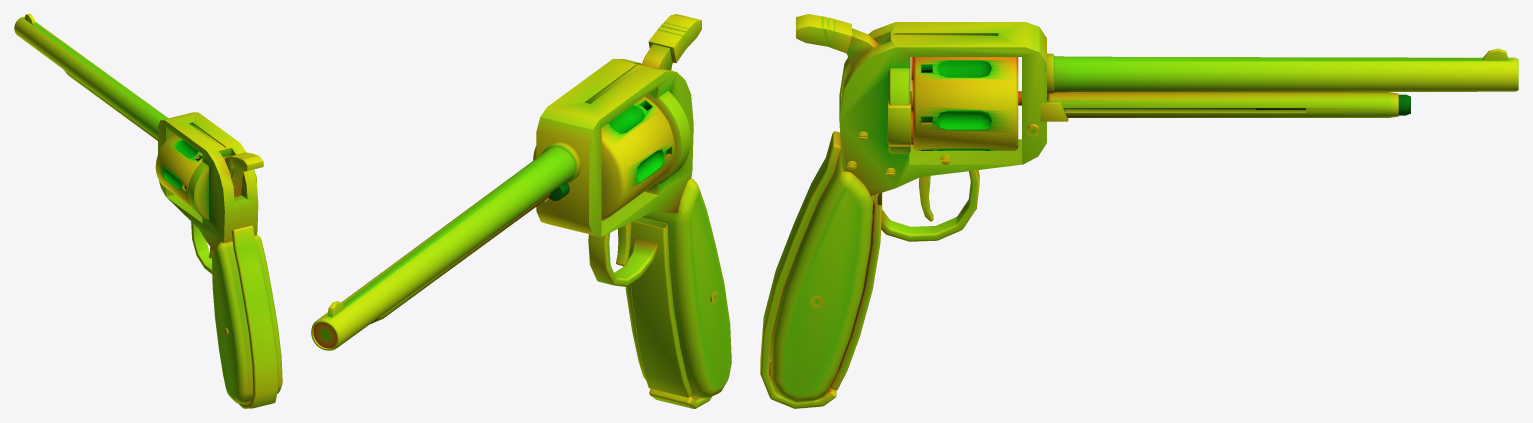
Rendered from revolver.glb.
3 renders of one model, left to right at view 1: azimuth 30°, elevation 25°; view 2: azimuth 150°, elevation 25°; view 3: azimuth 270°, elevation 25°, orthographic. The views are drawn at different scales.
Visible parts, largest first — view 1: Frame, Grips, Backstrap, Barrel, Body, Body.001, Guard, EjectorHousing; view 2: Frame, Barrel, Grips, Guard, Body, Body.001, EjectorHousing, Backstrap, Blade, Bore; view 3: Frame, Barrel, Grips, Body, EjectorHousing, Backstrap, Guard, Body.001, Flap.
Boxes of the visible parts, x1=… form: Frame: x1=158, y1=112, x2=258, y2=250; Grips: x1=212, y1=234, x2=282, y2=403; Backstrap: x1=231, y1=225, x2=277, y2=408; Barrel: x1=14, y1=14, x2=168, y2=138; Body: x1=155, y1=134, x2=202, y2=205; Body.001: x1=225, y1=152, x2=263, y2=197; Guard: x1=191, y1=222, x2=212, y2=274; EjectorHousing: x1=65, y1=71, x2=157, y2=140; Frame: x1=536, y1=59, x2=693, y2=236; Barrel: x1=311, y1=142, x2=580, y2=350; Grips: x1=625, y1=178, x2=731, y2=398; Guard: x1=588, y1=217, x2=691, y2=397; Body: x1=533, y1=96, x2=674, y2=220; Body.001: x1=641, y1=14, x2=701, y2=70; EjectorHousing: x1=374, y1=193, x2=550, y2=322; Backstrap: x1=649, y1=389, x2=711, y2=408; Blade: x1=616, y1=222, x2=631, y2=266; Bore: x1=313, y1=322, x2=336, y2=348; Frame: x1=839, y1=22, x2=1046, y2=195; Barrel: x1=1047, y1=48, x2=1518, y2=95; Grips: x1=770, y1=150, x2=873, y2=403; Body: x1=913, y1=57, x2=1018, y2=150; EjectorHousing: x1=1040, y1=92, x2=1398, y2=121; Backstrap: x1=760, y1=131, x2=840, y2=408; Guard: x1=830, y1=170, x2=979, y2=390; Body.001: x1=796, y1=14, x2=879, y2=67; Flap: x1=887, y1=101, x2=911, y2=144.
Size of the model in its own units: 0.045 by 0.1677 by 0.3031.
